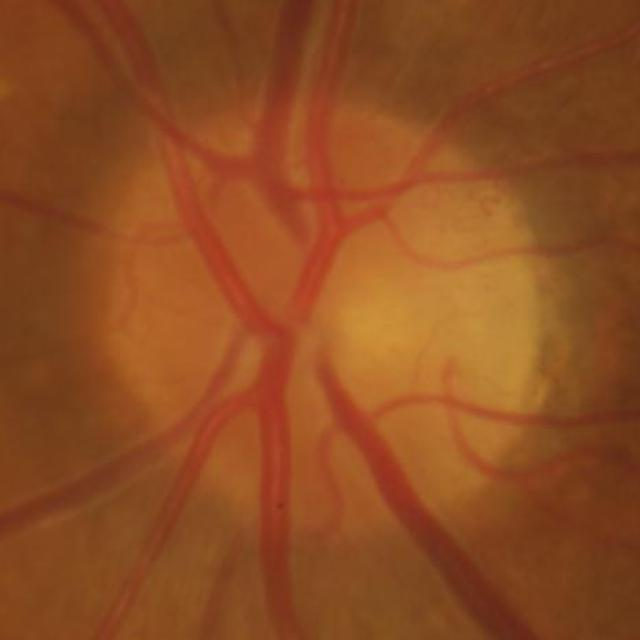OC: (326, 269, 462, 399)
OD: (94, 106, 550, 535)
